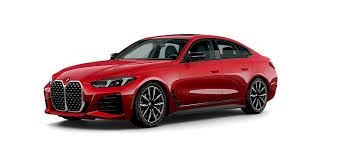car: (42, 32, 276, 128)
